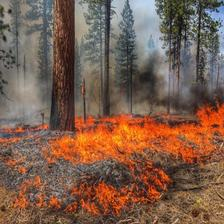fire: (12, 164, 181, 216), (78, 113, 221, 165), (40, 135, 107, 173), (192, 97, 224, 142), (1, 116, 48, 145), (4, 154, 29, 177)
